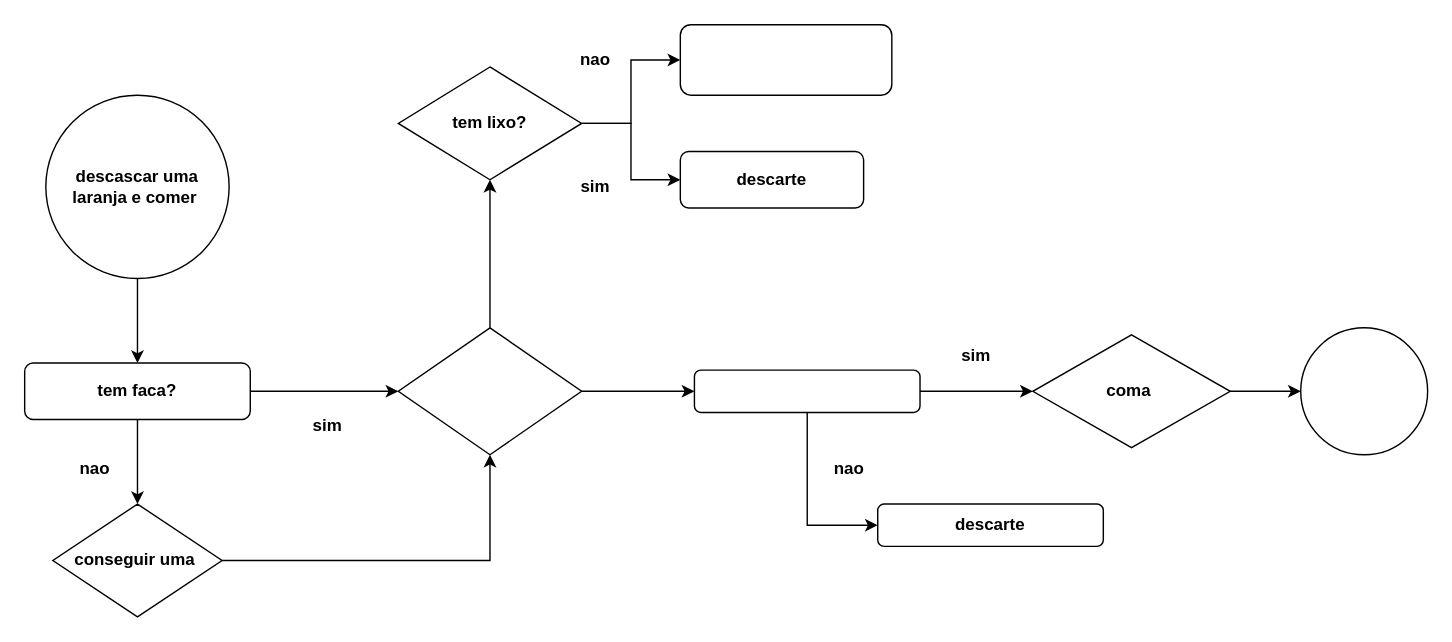
The diagram is 1452 pixels wide and 642 high, and some of its shapes have lost their labels. The centre of each missing label's shape, as x and y in pixels:
"descascar" belongs at point 489,390.
"esta boa para comer?" belongs at point 806,390.
"fim" belongs at point 1363,390.
"procure um ou guarde a casca ate achar" belongs at point 785,59.
